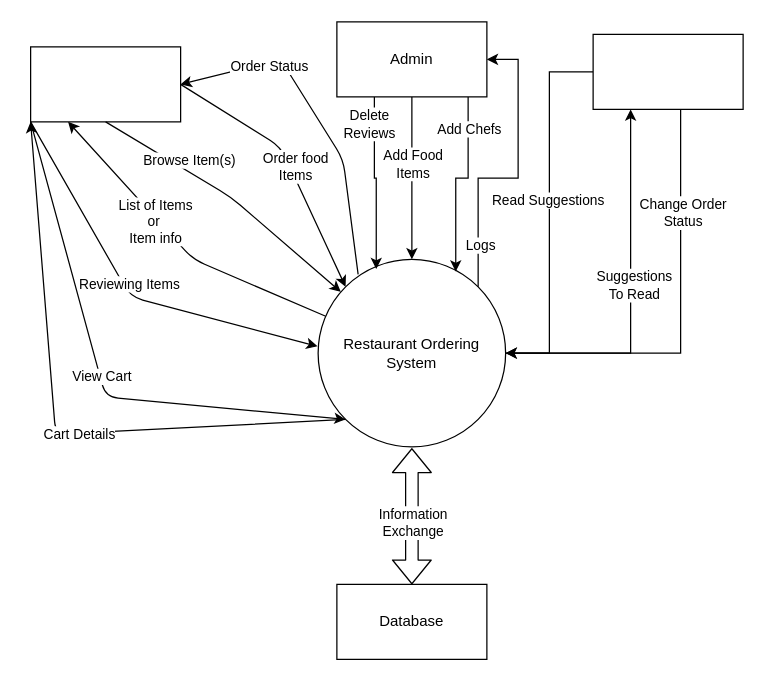
Some shapes in this 765 by 681 pixel diagram are drawn without their labels. The centre of each missing label's shape, as x and y in pixels:
Chef: point 667,71
User: point 105,84
